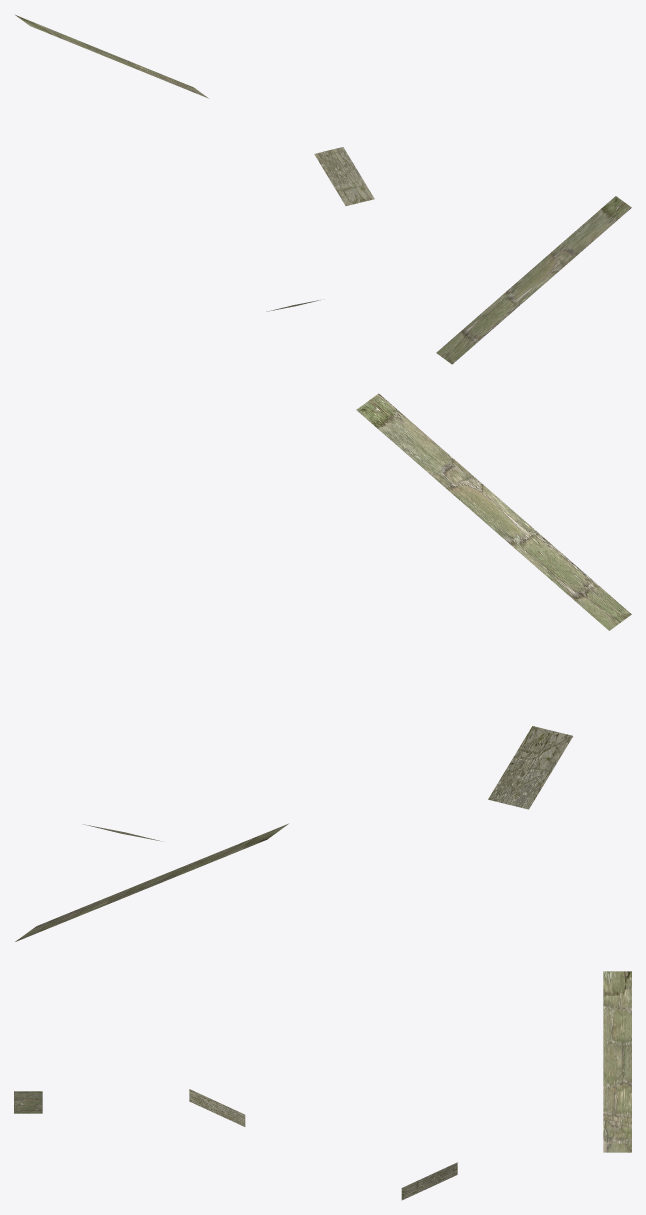
Rendered from SM_Chateaux_05_07.fbx.
The picture shows the model from 3 angles, top to bottom: view 1: azimuth 30°, elevation 25°; view 2: azimuth 150°, elevation 25°; view 3: azimuth 270°, elevation 25°; orthographic projection. The views are drawn at different scales.
Visible parts, largest first — view 1: SM_Chateaux_05_07; view 2: SM_Chateaux_05_07; view 3: SM_Chateaux_05_07.
Part boxes in pixels (<box>): SM_Chateaux_05_07: <box>15,15,631,364</box>; SM_Chateaux_05_07: <box>15,393,631,941</box>; SM_Chateaux_05_07: <box>14,971,631,1200</box>.
Bounding box in the file's own units: 2104 × 1091 × 4718.
